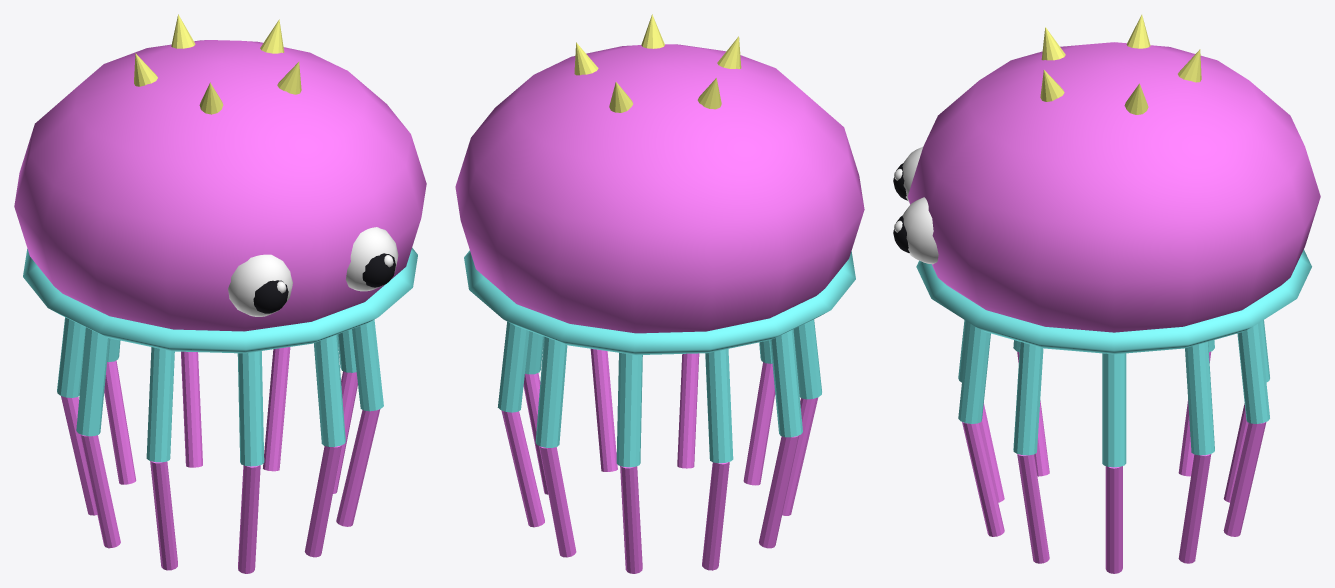
3 renders of one model, left to right at view 1: azimuth 30°, elevation 25°; view 2: azimuth 150°, elevation 25°; view 3: azimuth 270°, elevation 25°, orthographic.
Parts seen in each view (by area): view 1: Star Jelly; view 2: Star Jelly; view 3: Star Jelly.
Part boxes in pixels (<box>): Star Jelly: <box>14,14,426,573</box>; Star Jelly: <box>455,14,864,573</box>; Star Jelly: <box>893,14,1320,573</box>.
Bounding box in the file's own units: 2.4 × 3.01 × 2.48.
1 material, 1 textured.
